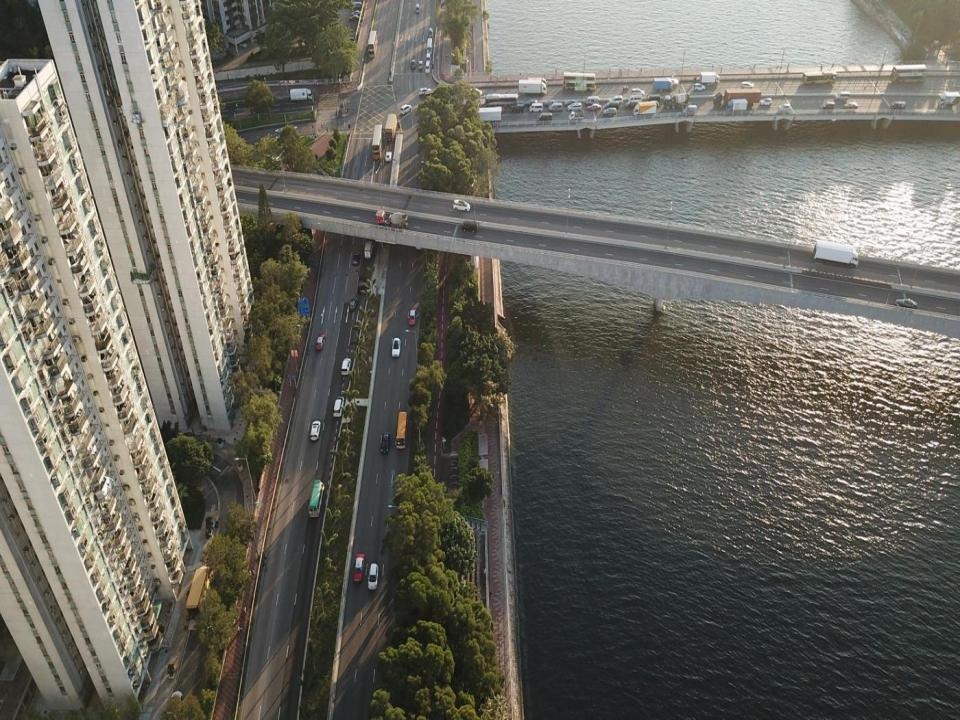bus: (890, 63, 927, 84), (562, 72, 597, 92), (308, 480, 324, 518), (800, 70, 837, 86), (485, 92, 517, 110), (394, 412, 408, 451), (372, 124, 383, 160), (367, 30, 378, 59), (426, 37, 432, 53)
car: (164, 690, 182, 718), (353, 553, 365, 584), (367, 563, 378, 590), (894, 298, 918, 310), (452, 198, 470, 211), (309, 420, 320, 441), (380, 431, 390, 454), (316, 332, 326, 351), (391, 337, 400, 358), (625, 100, 640, 112), (569, 110, 584, 122), (466, 87, 482, 98), (348, 295, 358, 312), (358, 276, 366, 295), (759, 97, 773, 107), (609, 95, 623, 105), (693, 82, 706, 92), (586, 95, 599, 105), (568, 103, 582, 112), (400, 103, 411, 114), (843, 102, 858, 110), (409, 309, 416, 326), (606, 102, 620, 110), (604, 107, 616, 116), (524, 99, 536, 108), (420, 87, 432, 96), (741, 81, 754, 89), (588, 103, 601, 111), (564, 99, 577, 107), (238, 40, 248, 50), (352, 252, 359, 266), (545, 99, 556, 107), (385, 150, 392, 162), (778, 103, 790, 110), (349, 15, 361, 21), (350, 10, 362, 16), (415, 2, 420, 14), (417, 60, 422, 72), (428, 28, 433, 38), (410, 60, 416, 68)
truck: (812, 240, 858, 267), (713, 87, 761, 108), (374, 208, 409, 232), (471, 107, 502, 122), (663, 92, 690, 109), (518, 79, 546, 95), (632, 100, 657, 117), (652, 76, 678, 92), (936, 92, 960, 105), (726, 98, 748, 112), (699, 71, 720, 85), (386, 113, 396, 141), (289, 88, 312, 100), (364, 240, 373, 260)
van: (460, 219, 479, 233), (333, 396, 345, 417), (340, 357, 351, 376), (526, 77, 546, 87), (537, 112, 553, 124), (646, 93, 660, 105), (510, 103, 524, 114), (682, 104, 697, 114), (629, 94, 642, 105), (889, 102, 906, 110), (549, 102, 562, 112), (834, 92, 850, 100), (820, 102, 835, 110), (632, 88, 644, 98), (529, 103, 542, 112), (426, 52, 431, 65), (425, 62, 430, 74), (350, 2, 362, 7)
